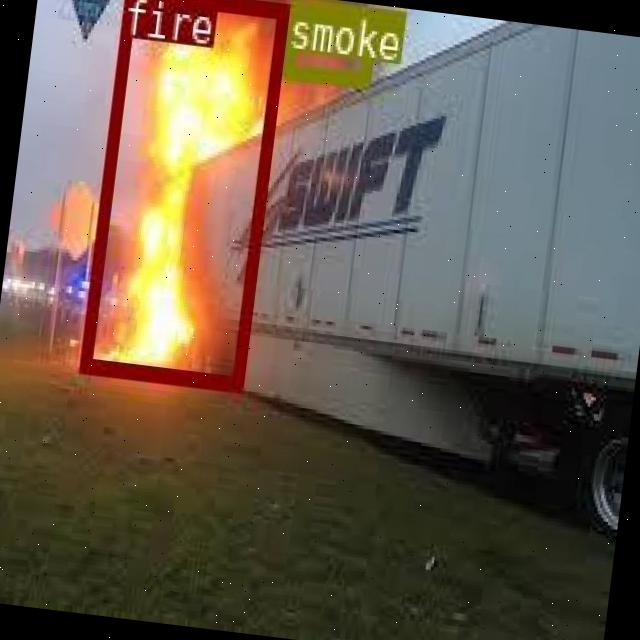fire: (77, 0, 286, 386)
smoke: (281, 0, 376, 86)
